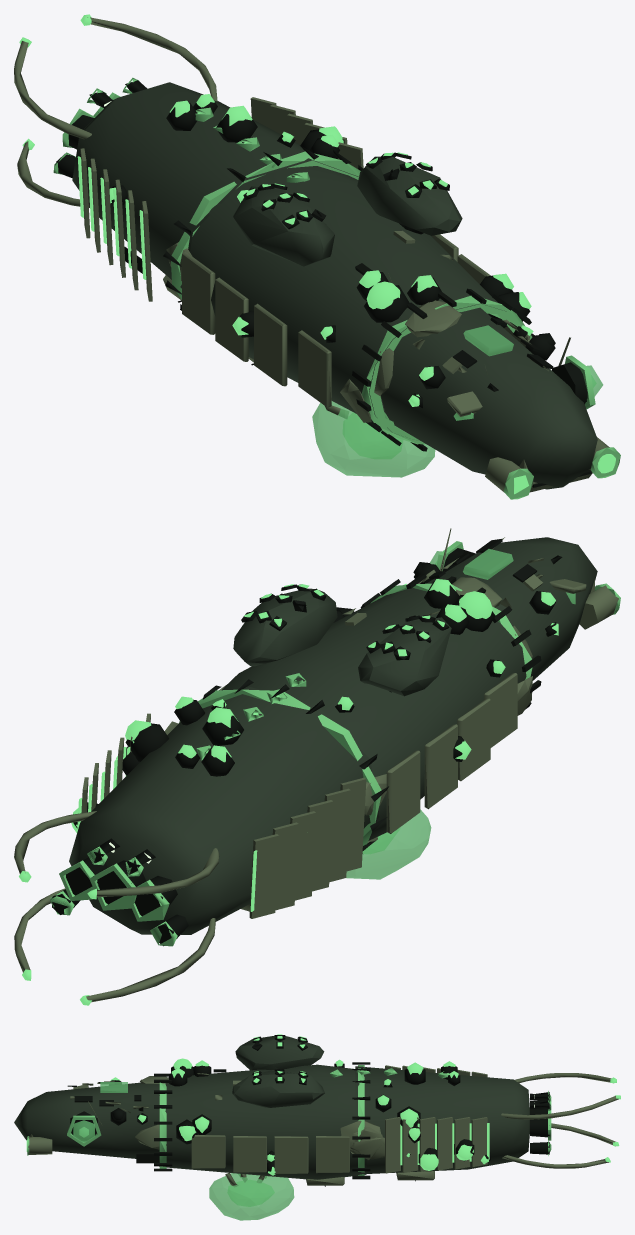
The model's file is zrost-szczepieni-hawk-4-lod1.glb.
3 views of the same model, one above another, from view 1: azimuth 30°, elevation 25°; view 2: azimuth 150°, elevation 25°; view 3: azimuth 270°, elevation 25° (orthographic). The views are drawn at different scales.
Bounding box in the file's own units: 19.06 × 21.17 × 73.34.
